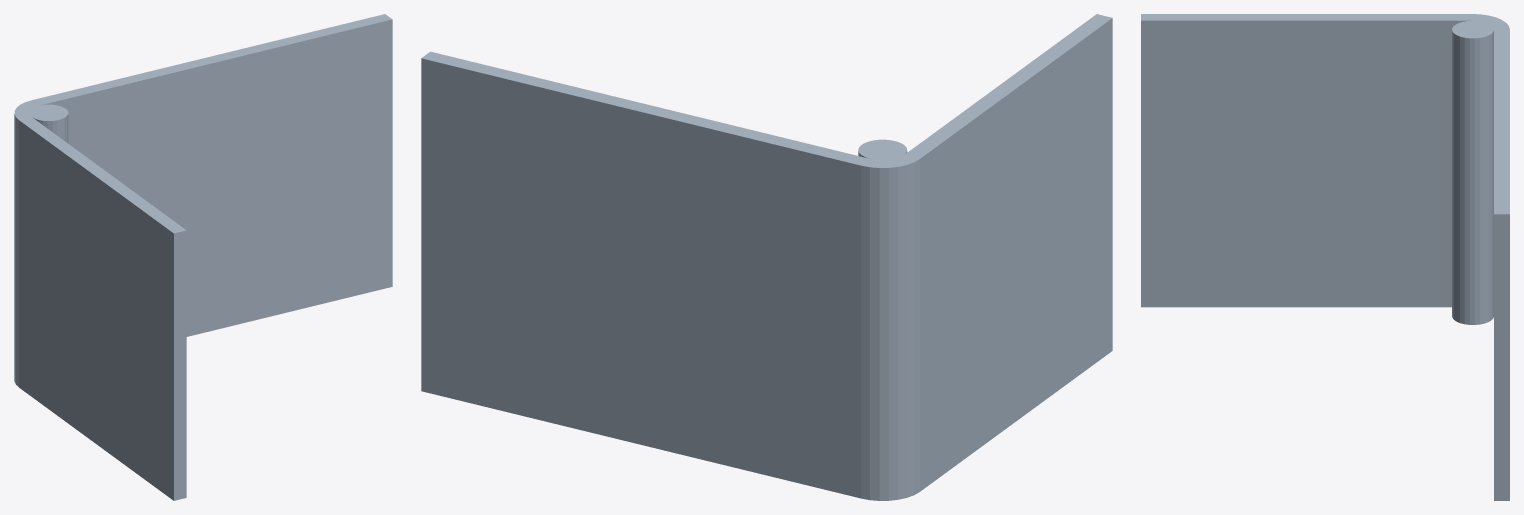
The model's file is synthetic-bracket-folded.glb.
The picture shows the model from 3 angles, left to right: view 1: azimuth 30°, elevation 25°; view 2: azimuth 150°, elevation 25°; view 3: azimuth 270°, elevation 25°; orthographic projection. The views are drawn at different scales.
Parts seen in each view (by area): view 1: world; view 2: world; view 3: world.
Part boxes in pixels (x1=…): world: x1=14, y1=14, x2=392, y2=500; world: x1=421, y1=14, x2=1112, y2=500; world: x1=1141, y1=14, x2=1509, y2=500.
Size of the model in its own units: 90 by 60 by 70.
